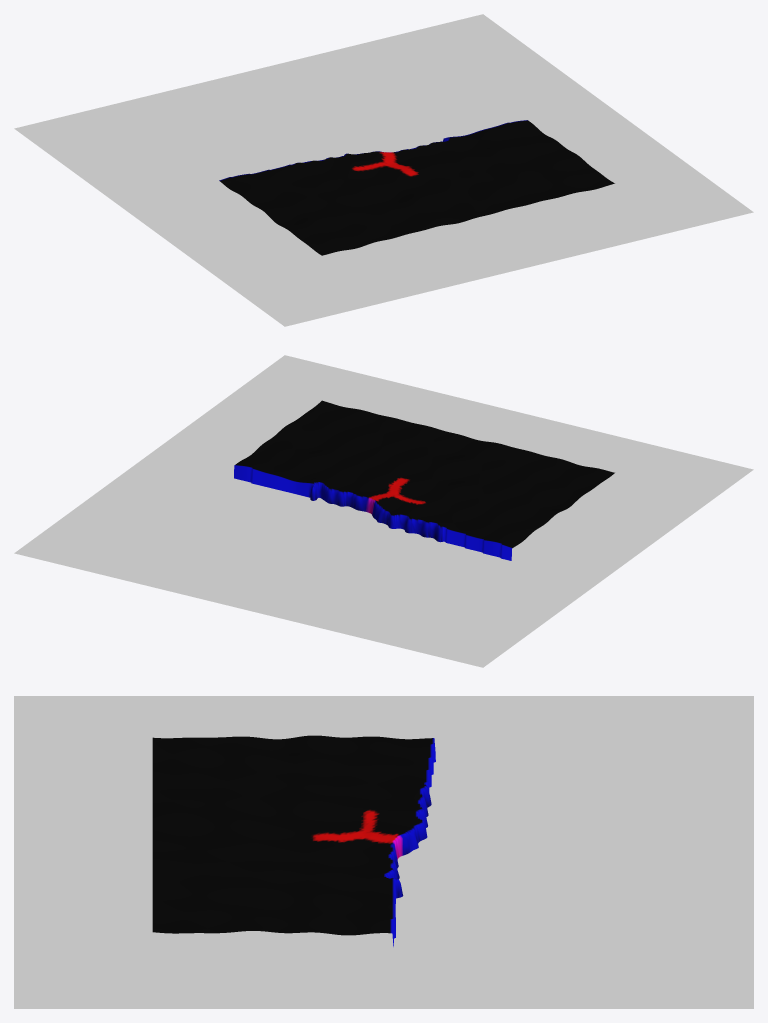
Rendered from terrain.glb.
The picture shows the model from 3 angles, top to bottom: view 1: azimuth 30°, elevation 25°; view 2: azimuth 150°, elevation 25°; view 3: azimuth 270°, elevation 25°; orthographic projection. The views are drawn at different scales.
Visible parts, largest first — view 1: water, terrain; view 2: water, terrain; view 3: water, terrain.
Boxes of the visible parts, bbox=[...] form: water: bbox=[14, 14, 753, 326]; terrain: bbox=[219, 120, 614, 255]; water: bbox=[14, 355, 753, 667]; terrain: bbox=[234, 400, 614, 560]; water: bbox=[14, 696, 753, 1008]; terrain: bbox=[152, 735, 435, 946].
Bounding box in the file's own units: 176 × 8.45 × 176.
